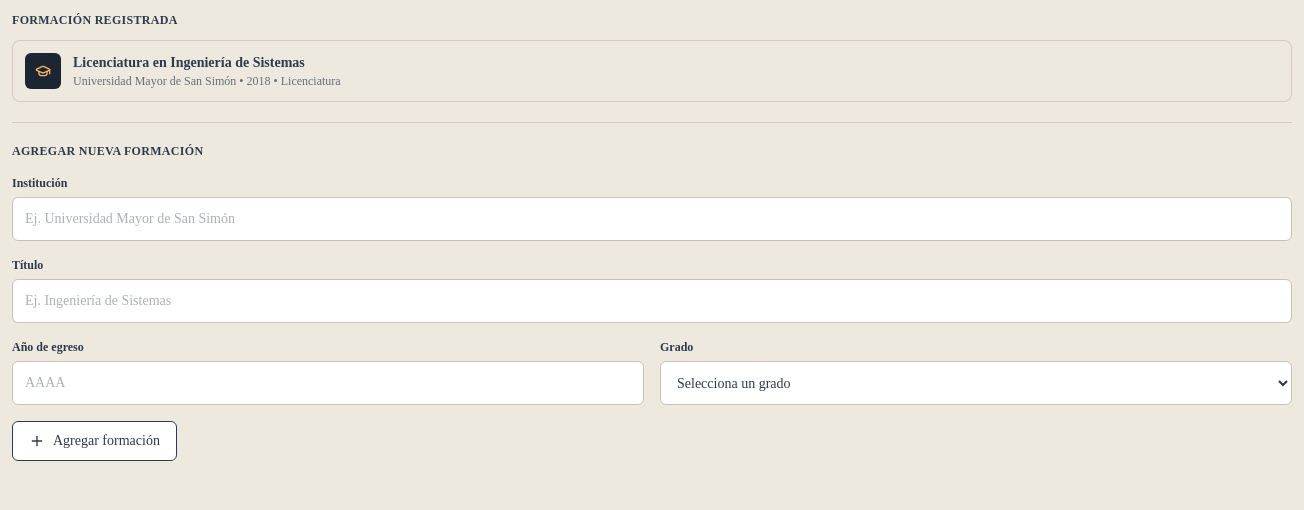
Test: FormacionAcademicaForm · formación duplicada (BUG-HU2-002) › muestra el mensaje y no agrega una formación ya registrada
Type "universidad mayor de san simón" into the field labelled "Institución" at (652, 219), box [12,197,1292,241]
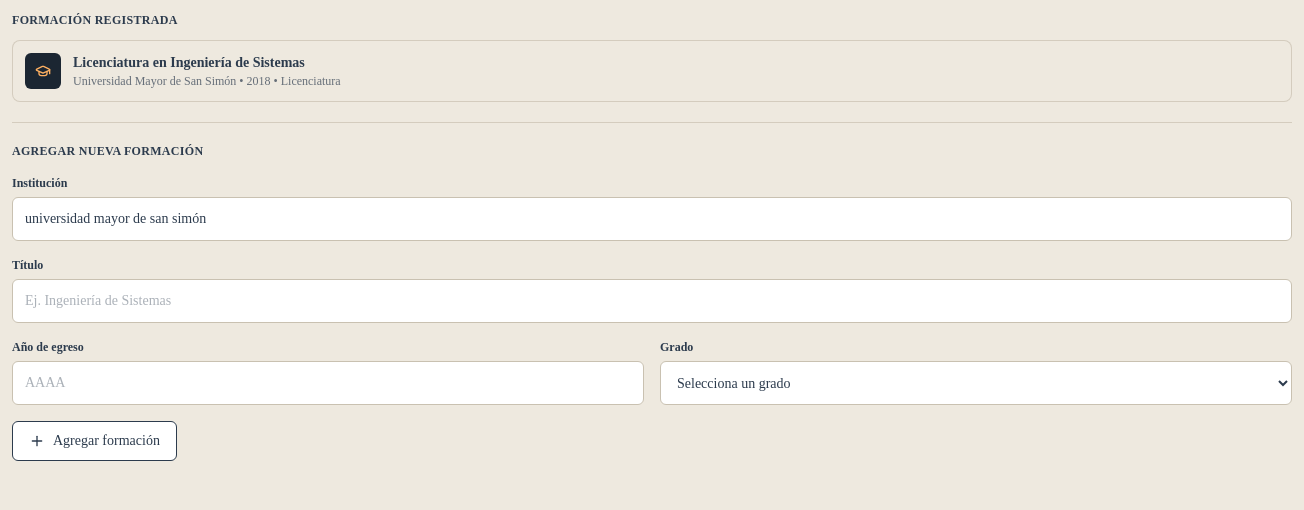
Type "LICENCIATURA EN INGENIERÍA DE SISTEMAS" into the field labelled "Título" at (652, 301), box [12,279,1292,323]
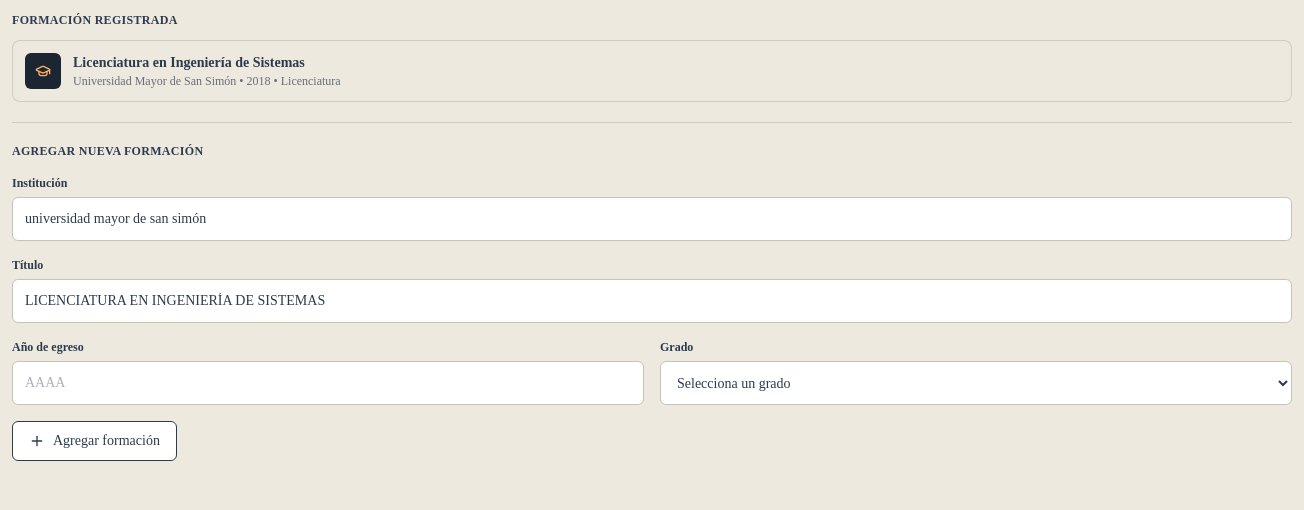
Type "2018" into the field labelled "Año de egreso" at (328, 383), box [12,361,644,405]
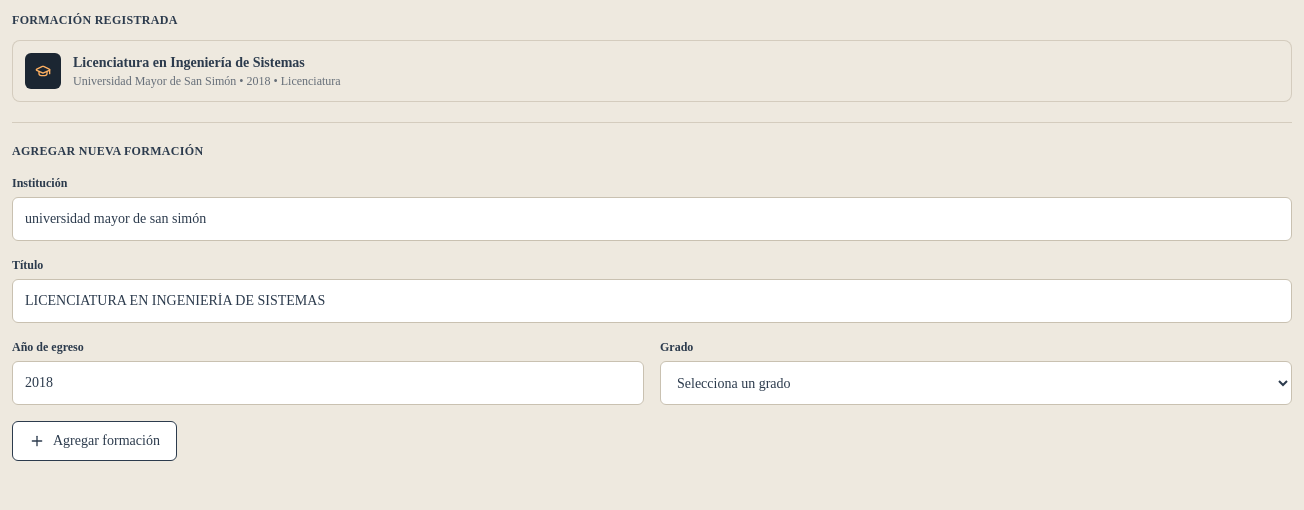
Select "Licenciatura" in the dropdown labelled "Grado" at (976, 383), box [660,361,1292,405]
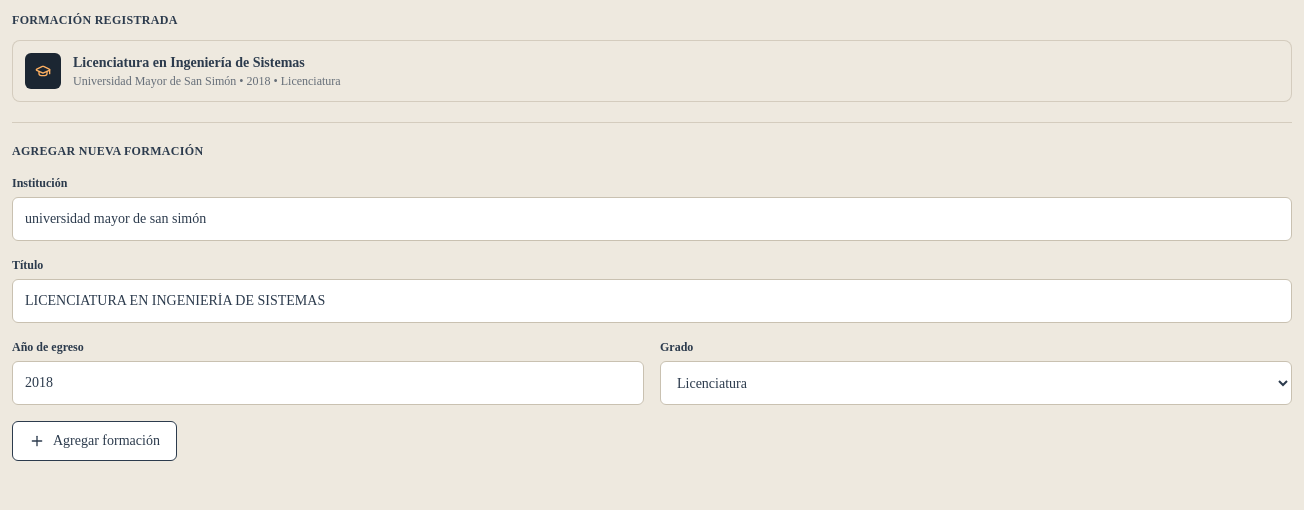
Click the button "Agregar formación" at (94, 441), box [12,421,177,461]
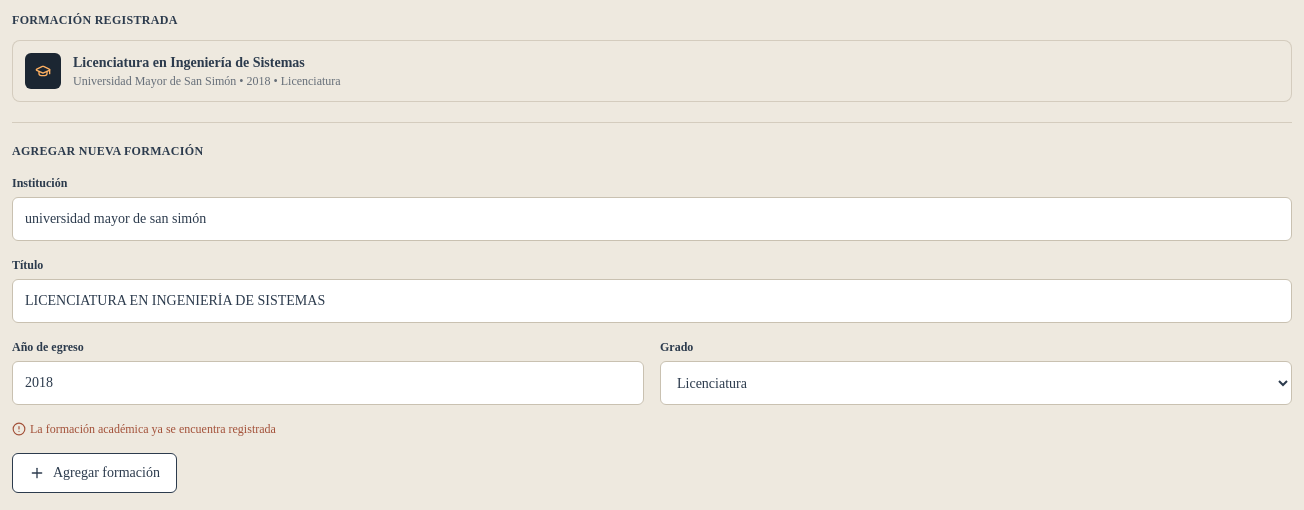
Check: the text "La formación académica ya se encuentra registrada" is shown, box [12,422,276,436]
